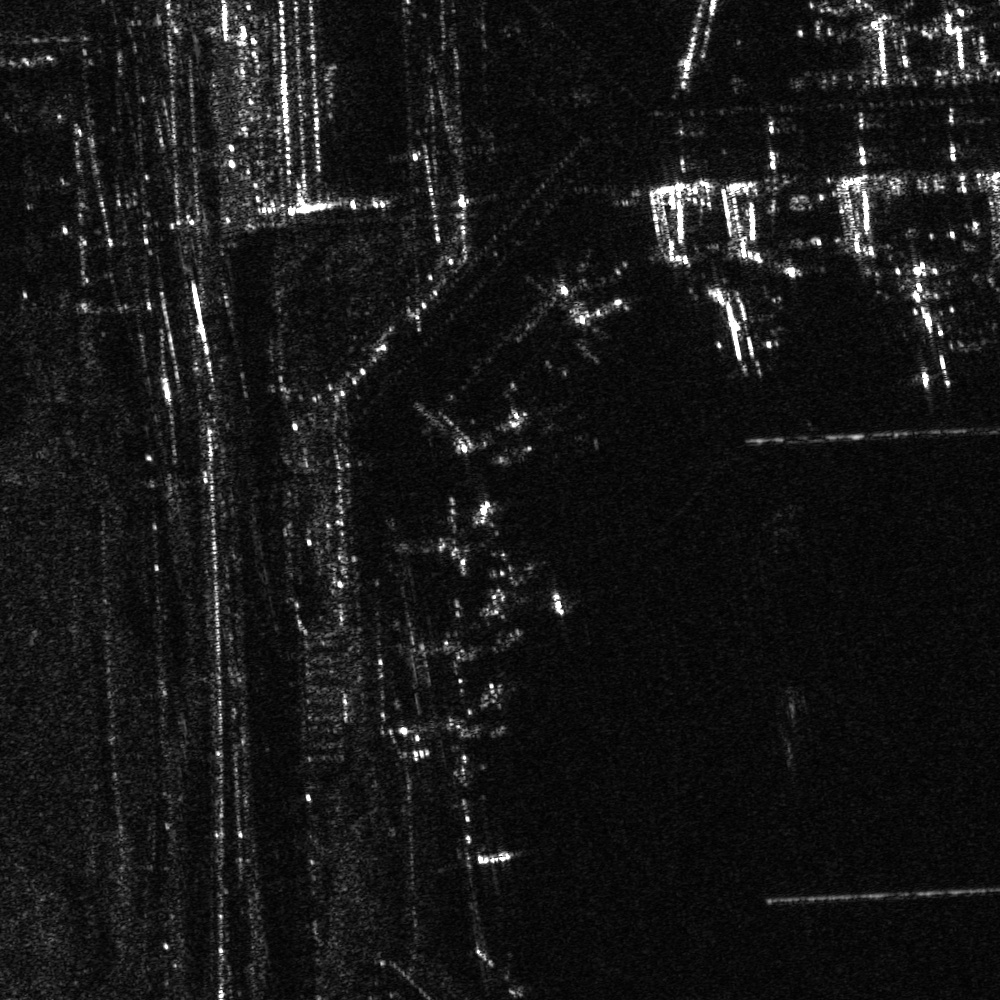Boeing737: (699, 270, 777, 376)
Boeing787: (895, 277, 980, 398)
